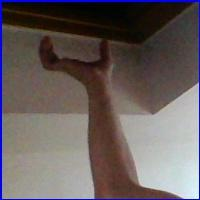space: (29, 33, 120, 84)
